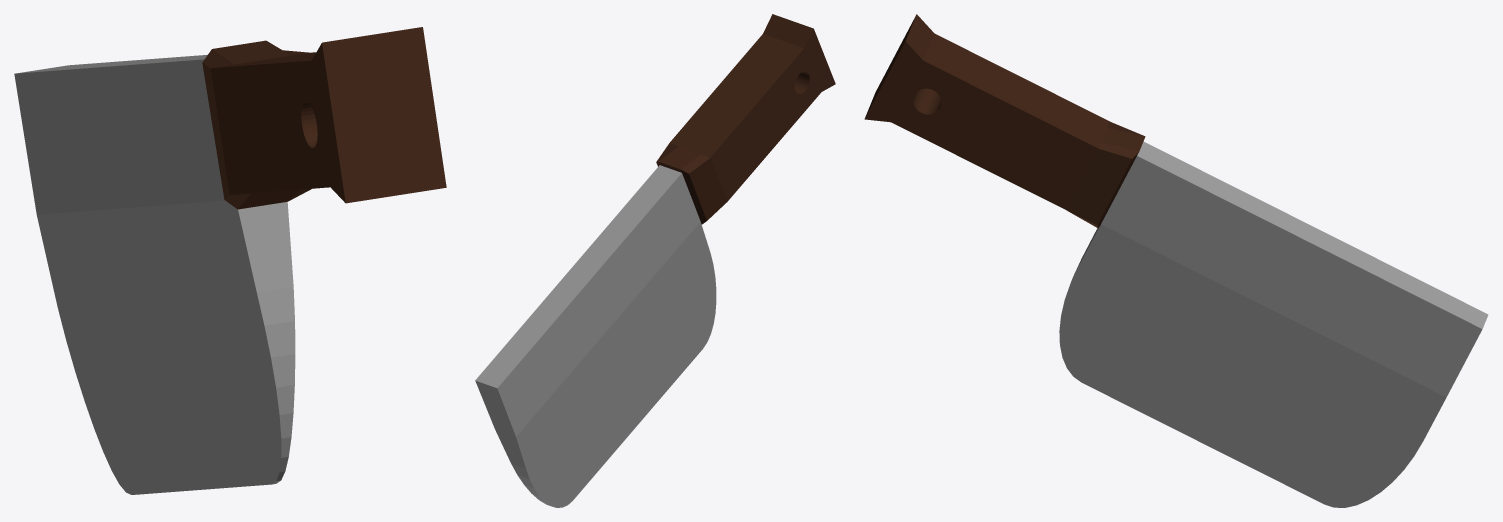
3 views of the same model, side by side, from view 1: azimuth 30°, elevation 25°; view 2: azimuth 150°, elevation 25°; view 3: azimuth 270°, elevation 25° (orthographic). The views are drawn at different scales.
Parts seen in each view (by area): view 1: Plane.002; view 2: Plane.002; view 3: Plane.002.
Part boxes in pixels (x1,y1,x2,y2): Plane.002: [14, 27, 446, 494]; Plane.002: [475, 14, 835, 507]; Plane.002: [864, 14, 1488, 507].
Size of the model in its own units: 19.85 by 62.99 by 79.45.
